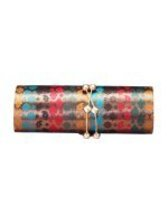other: (12, 79, 156, 140)
